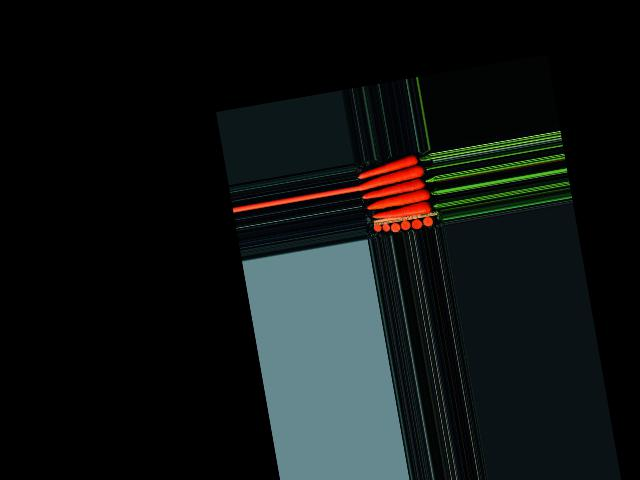carrot: (368, 200, 438, 226)
